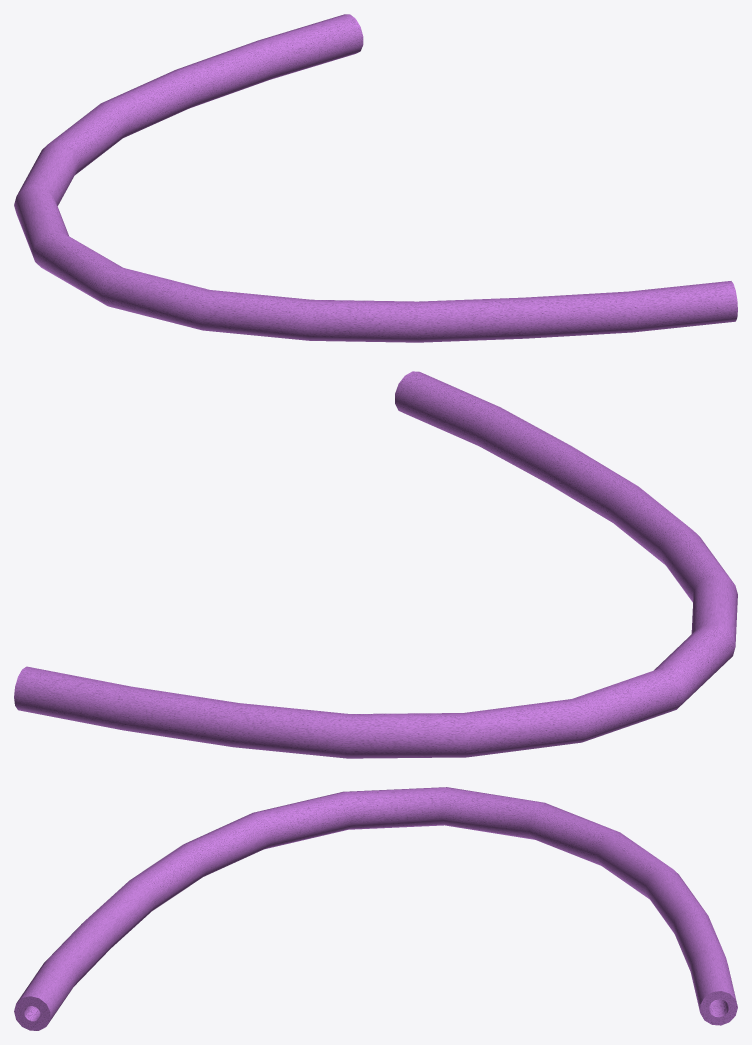
File: Noodle.fbx
The picture shows the model from 3 angles, top to bottom: view 1: azimuth 30°, elevation 25°; view 2: azimuth 150°, elevation 25°; view 3: azimuth 270°, elevation 25°; orthographic projection. The views are drawn at different scales.
Parts seen in each view (by area): view 1: noodleUV; view 2: noodleUV; view 3: noodleUV.
Boxes of the visible parts, box(x1,y1,x2,y2) form: noodleUV: box(14, 14, 737, 342); noodleUV: box(14, 371, 737, 758); noodleUV: box(14, 787, 737, 1030).
Bounding box in the file's own units: 5.96 × 0.4416 × 8.36.
1 material, 1 textured.
